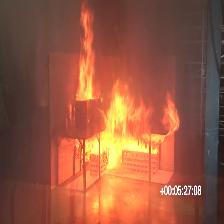fire: (86, 80, 180, 170), (75, 0, 100, 100)
